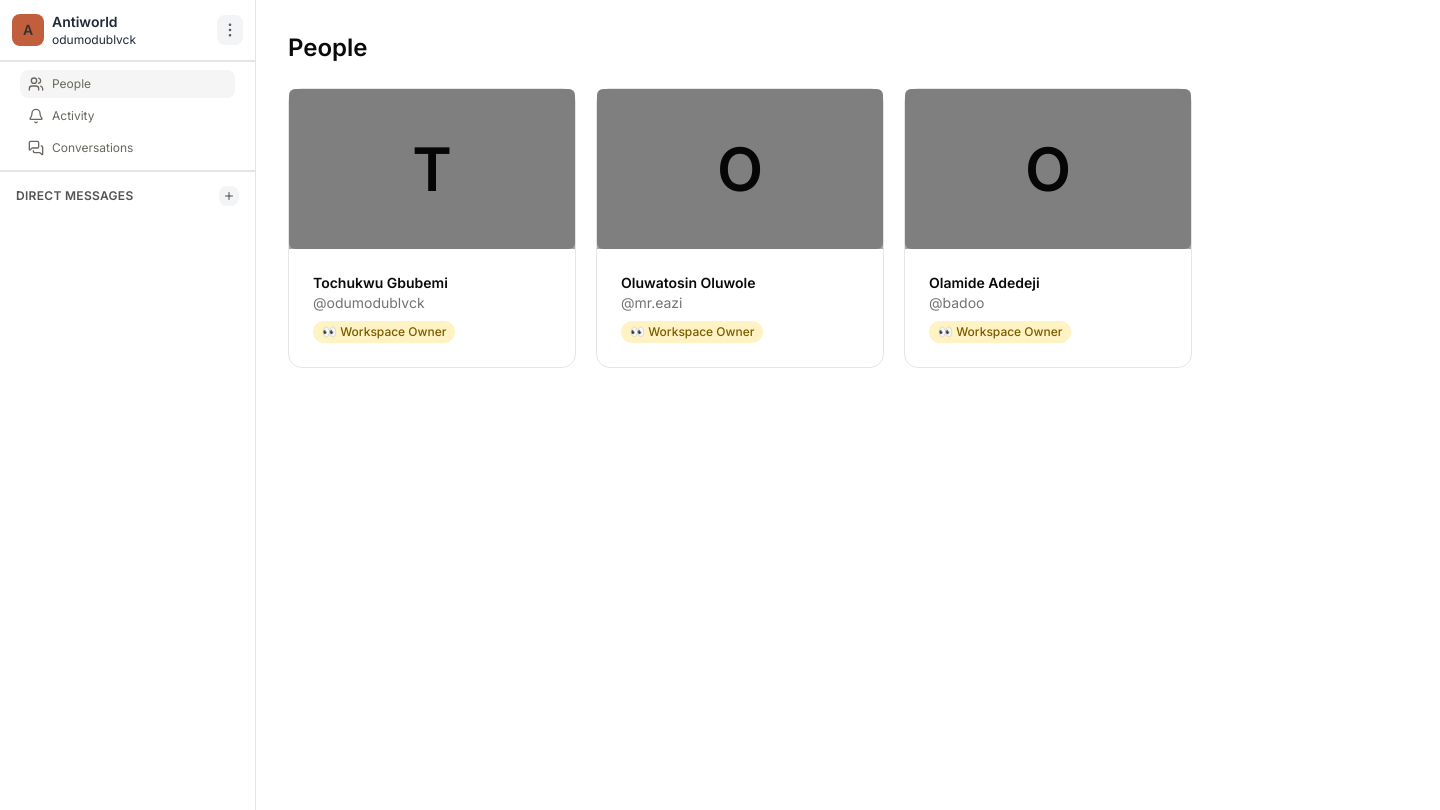
Test case: Create A new Direct Message › does not render suggestion box when no teammates found
The image size is (1440, 810).
Click the button named "new-direct-message" at (229, 196), box [219,186,239,206]
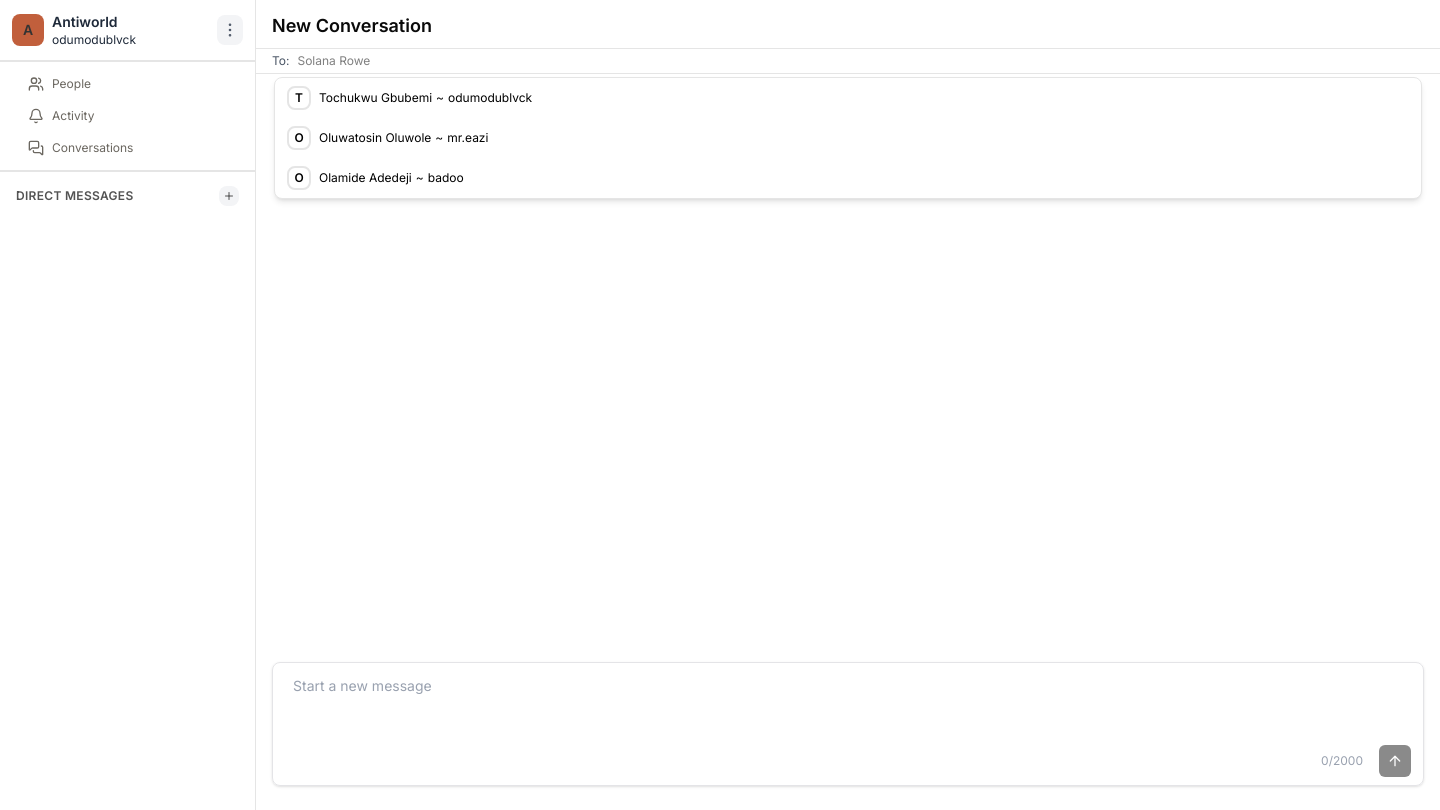
Type "zzzzzz" into the field named "recipient-search" at (861, 61), box [298,53,1424,69]
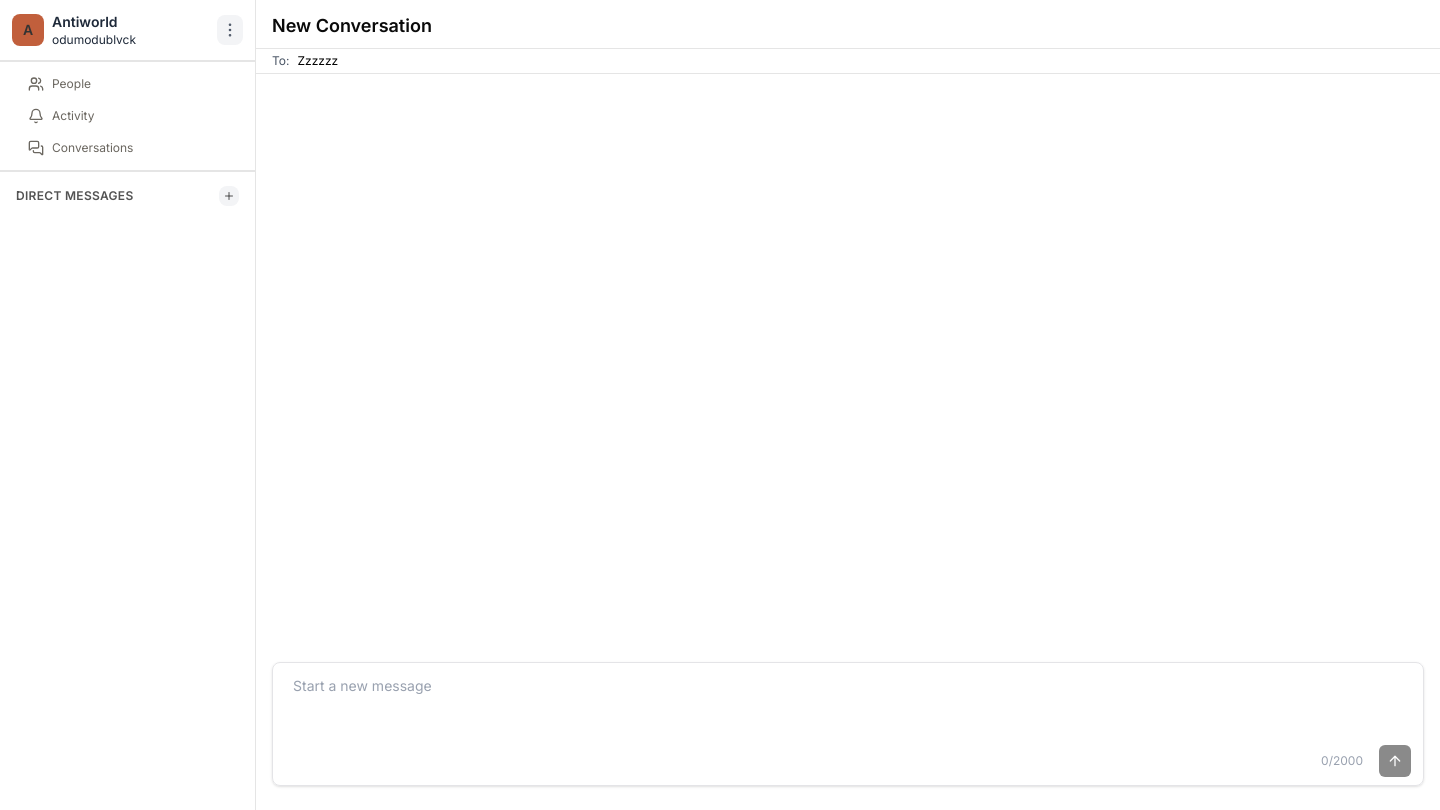
Check: the button with test id "teammate-suggestions" is gone
